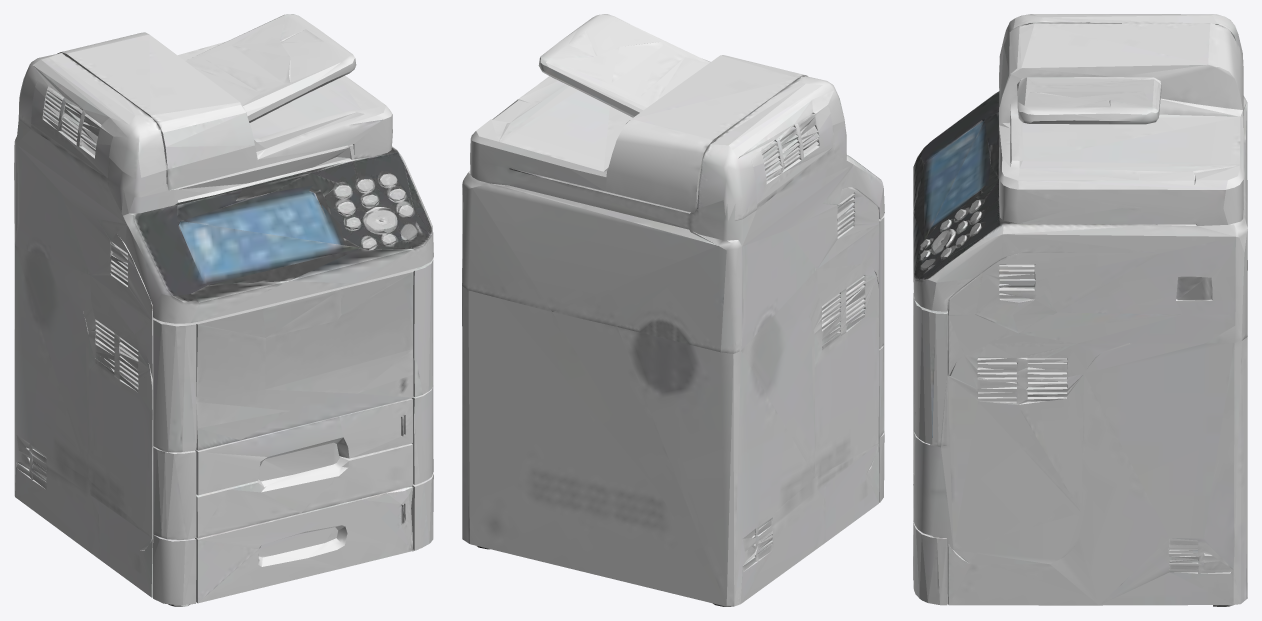
File: printer.glb
3 renders of one model, left to right at view 1: azimuth 30°, elevation 25°; view 2: azimuth 150°, elevation 25°; view 3: azimuth 270°, elevation 25°, orthographic. The views are drawn at different scales.
Size of the model in its own units: 1.19 by 1.9 by 1.2.
Materials: 1 (1 with a texture image).
